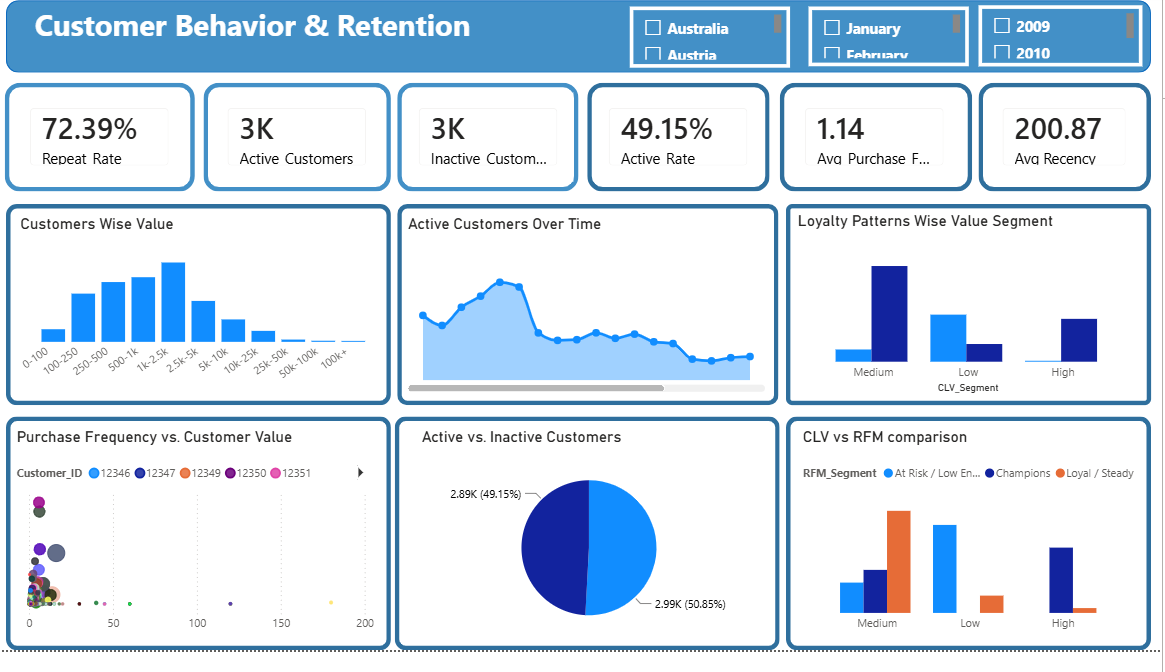

The dashboard page shown, as its layout file describes it:
{"tool":"powerbi","page":{"name":"Page 3","canvas":[1280,720],"ordinal":3},"visuals":[{"type":"shape","box":[11,6.9,1257,79.6],"z":0},{"type":"textbox","box":[28.5,7.1,1213,78.4],"z":1000},{"type":"shape","box":[9.6,97.4,208.6,119.4],"z":2000},{"type":"shape","box":[227.8,97.4,205.8,119.4],"z":3000},{"type":"shape","box":[440.5,97.4,199,119.4],"z":4000},{"type":"shape","box":[649.1,97.4,200.3,119.4],"z":5000},{"type":"shape","box":[860.4,97.4,211.3,119.4],"z":6000},{"type":"shape","box":[1078.6,97.4,189.4,119.4],"z":7000},{"type":"cardVisual","fields":{"Data":["Customer.Repeat_Rate"]},"box":[20.6,108.4,186.6,97.4],"z":8000},{"type":"cardVisual","fields":{"Data":["Customer.Active_Customers"]},"box":[237.4,108.4,186.6,97.4],"z":9000},{"type":"cardVisual","fields":{"Data":["Customer.Inactive_Customers"]},"box":[447.3,108.4,186.6,97.4],"z":10000},{"type":"cardVisual","fields":{"Data":["Customer.Active_Rate"]},"box":[655.9,108.4,186.6,97.4],"z":11000},{"type":"cardVisual","fields":{"Data":["Customer.Avg_Purchase_Frequency"]},"box":[871.4,108.4,186.6,97.4],"z":12000},{"type":"cardVisual","fields":{"Data":["Customer.Avg Recency"]},"box":[1088,108.5,169.7,97.4],"z":13000},{"type":"shape","box":[11,230.5,422.6,220.9],"z":14000},{"type":"shape","box":[440.5,230.5,418.5,220.9],"z":15000},{"type":"shape","box":[11,463.8,422.6,256.6],"z":16000},{"type":"shape","box":[437.7,463.8,422.6,256.6],"z":17000},{"type":"shape","box":[867.2,463.8,400.7,256.6],"z":18000},{"type":"clusteredColumnChart","title":"Customers Wise Value","fields":{"Category":["Customer.CLV_Bucket"],"Y":["online_retail_combined.Total_Customers"]},"box":[22,241.5,402.1,200.3],"z":19000},{"type":"lineChart","title":"Active Customers Over Time","fields":{"Category":["online_retail_combined.Month_Year"],"Y":["Customer.Monthly_Active_Customers"]},"box":[447.3,241.5,402.1,200.3],"z":20000},{"type":"clusteredColumnChart","title":"Loyalty Patterns Wise Value Segment","fields":{"Category":["Customer.CLV_Segment"],"Series":["Customer.Repeat_Customer_Flag"],"Y":["online_retail_combined.Total_Customers"]},"box":[867.2,230.5,400.7,220.9],"z":21000},{"type":"scatterChart","title":"Purchase Frequency vs. Customer Value","fields":{"X":["Sum(Customer.Purchase_Frequency)"],"Y":["Sum(Customer.CLV)"],"Category":["Customer.Customer_ID"],"Size":["online_retail_combined.Total_Orders"],"Series":["Customer.Customer_ID"]},"box":[17.8,476.2,402.1,233.3],"z":22000},{"type":"pieChart","title":"Active vs. Inactive Customers","fields":{"Category":["Customer.Active_Customer_Flag"],"Y":["CountNonNull(Customer.Customer_ID)"]},"box":[462.4,476.2,377.4,233.3],"z":23000},{"type":"clusteredColumnChart","title":"CLV vs RFM comparison ","fields":{"Category":["Customer.CLV_Segment"],"Series":["Customer.RFM_Segment"],"Y":["online_retail_combined.Total_Customers"]},"box":[881,476.2,377.4,233.3],"z":25000},{"type":"slicer","fields":{"Values":["online_retail_combined.InvoiceDate.Variation.Date Hierarchy.Year"]},"box":[1078.6,8.2,179.8,67.2],"z":25001},{"type":"slicer","fields":{"Values":["online_retail_combined.InvoiceDate.Variation.Date Hierarchy.Month"]},"box":[891.9,8.2,175.6,65.9],"z":25002},{"type":"slicer","fields":{"Values":["online_retail_combined.Country"]},"box":[695.7,6.9,175.6,67.2],"z":25003}]}

Visuals, with their boxes in screenshot pixels (x1, y1, x2, y2), scaled from the page's 1280x720 canvas onto the 1165x672 screenshot:
shape: 10:6:1154:81
textbox: 26:7:1130:80
shape: 9:91:199:202
shape: 207:91:395:202
shape: 401:91:582:202
shape: 591:91:773:202
shape: 783:91:975:202
shape: 982:91:1154:202
cardVisual - Customer.Repeat_Rate: 19:101:189:192
cardVisual - Customer.Active_Customers: 216:101:386:192
cardVisual - Customer.Inactive_Customers: 407:101:577:192
cardVisual - Customer.Active_Rate: 597:101:767:192
cardVisual - Customer.Avg_Purchase_Frequency: 793:101:963:192
cardVisual - Customer.Avg Recency: 990:101:1145:192
shape: 10:215:395:421
shape: 401:215:782:421
shape: 10:433:395:671
shape: 398:433:783:671
shape: 789:433:1154:671
"Customers Wise Value" clusteredColumnChart: 20:225:386:412
"Active Customers Over Time" lineChart: 407:225:773:412
"Loyalty Patterns Wise Value Segment" clusteredColumnChart: 789:215:1154:421
"Purchase Frequency vs. Customer Value" scatterChart: 16:444:382:662
"Active vs. Inactive Customers" pieChart: 421:444:764:662
"CLV vs RFM comparison " clusteredColumnChart: 802:444:1145:662
slicer - online_retail_combined.InvoiceDate.Variation.Date Hierarchy.Year: 982:8:1145:70
slicer - online_retail_combined.InvoiceDate.Variation.Date Hierarchy.Month: 812:8:972:69
slicer - online_retail_combined.Country: 633:6:793:69
